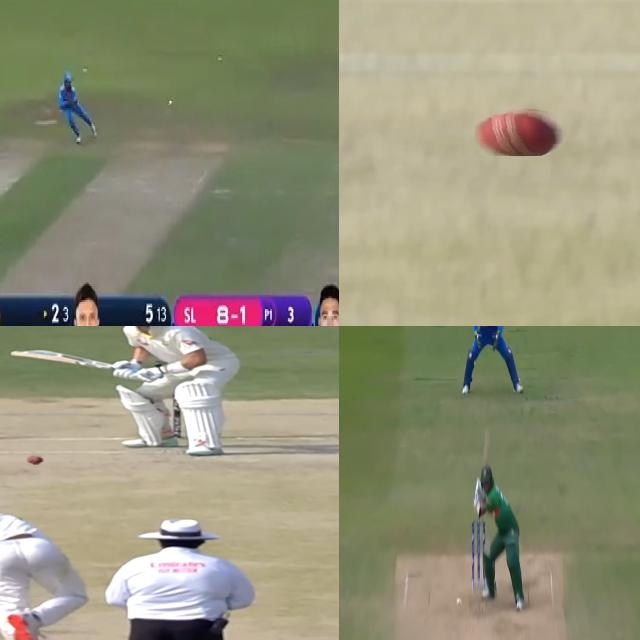Cricket ball: (475, 107, 567, 156), (26, 454, 46, 465), (167, 97, 174, 107), (456, 596, 462, 606)
Stumps: (471, 518, 486, 596)
